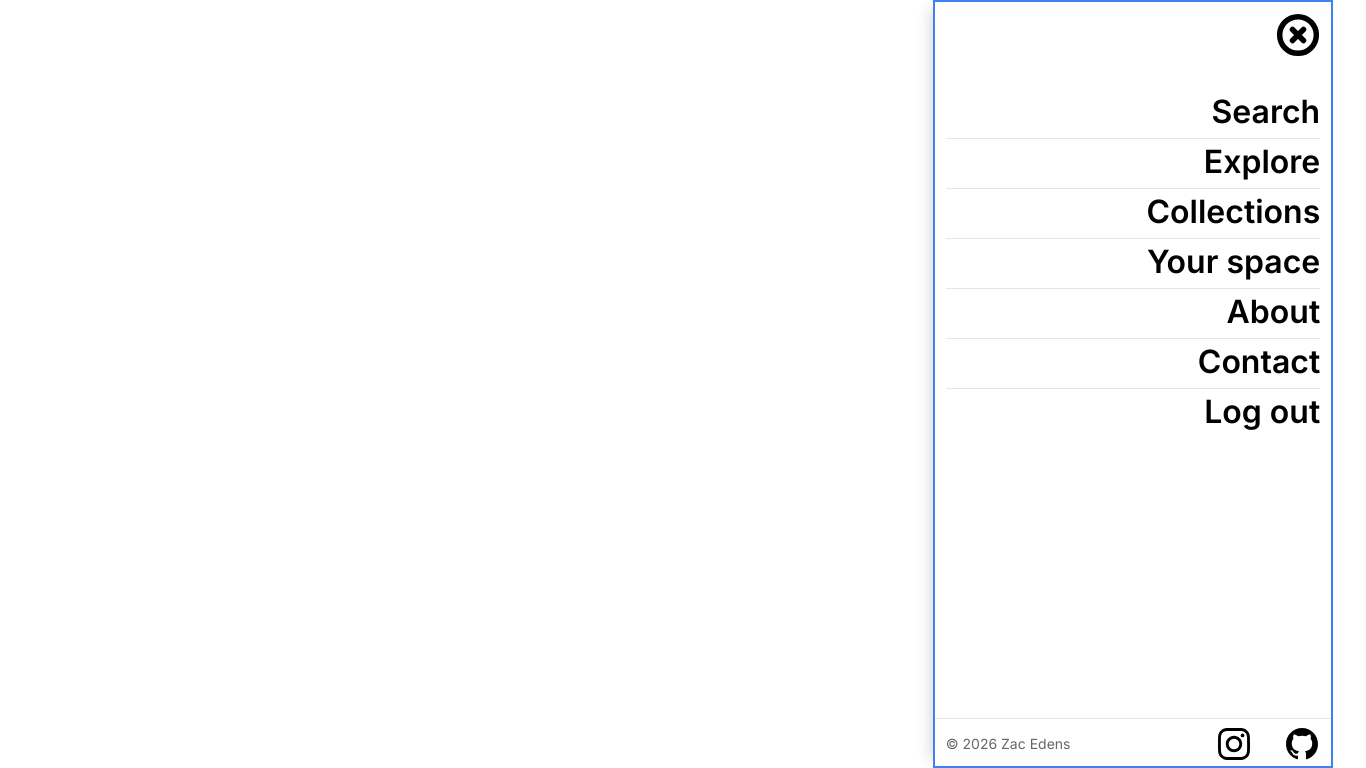
Test: MenuDropdown — auth actions › swaps "Log out" for "Log in" after logout without a remount
This screenshot has width=1366, height=768.
Click the button "Log out" at x=1262, y=412, box [946, 387, 1320, 437]
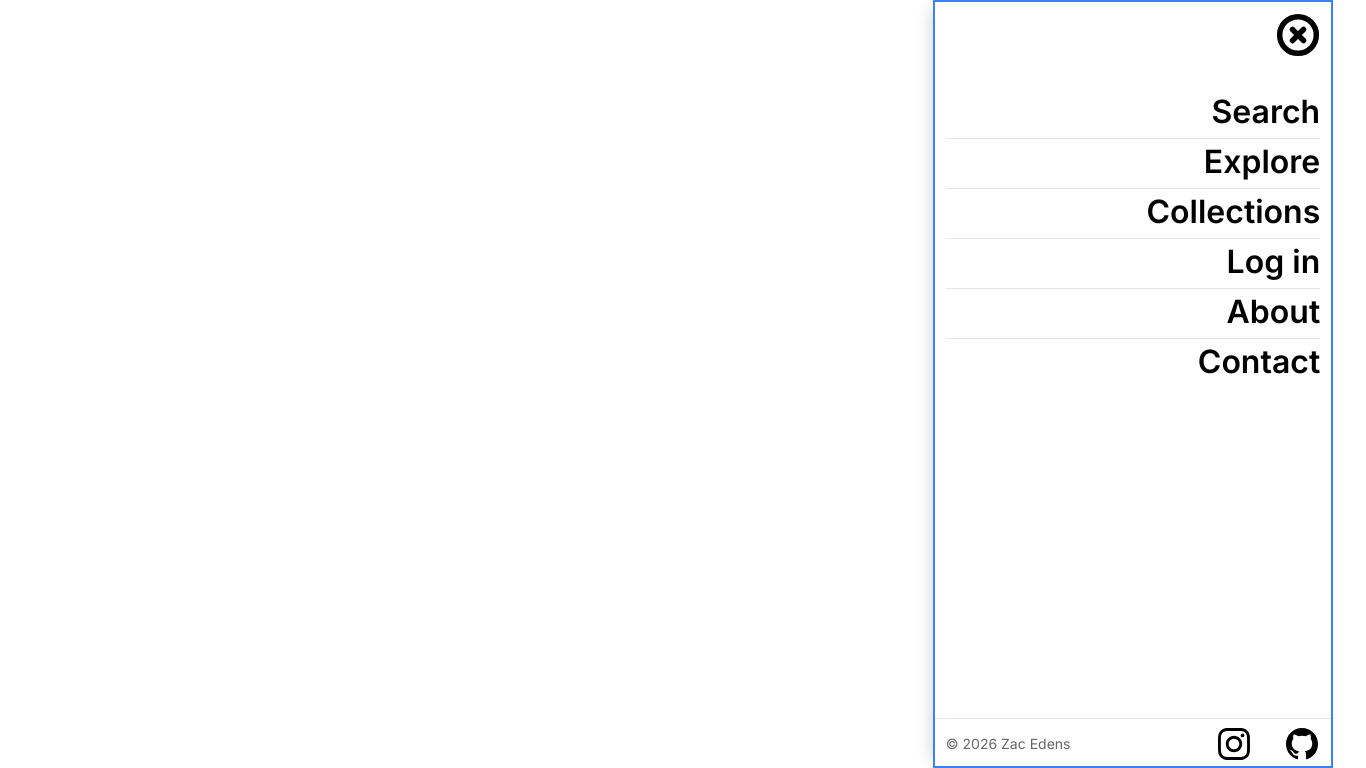
Result: the link "Log in" is shown at [1227, 242, 1320, 281]
Result: the button "Log out" is gone
